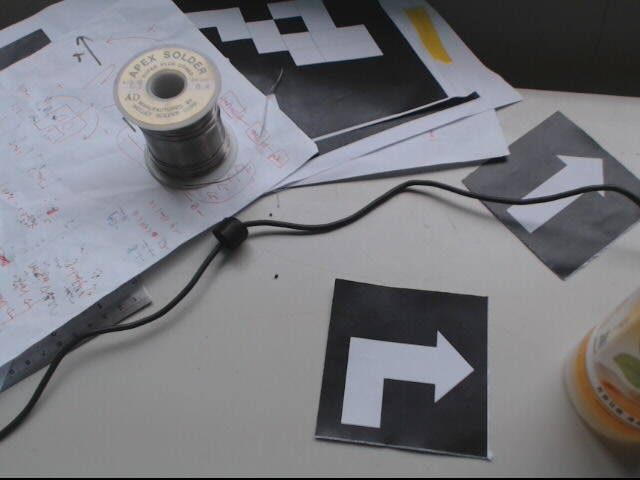right: (314, 277, 489, 459)
